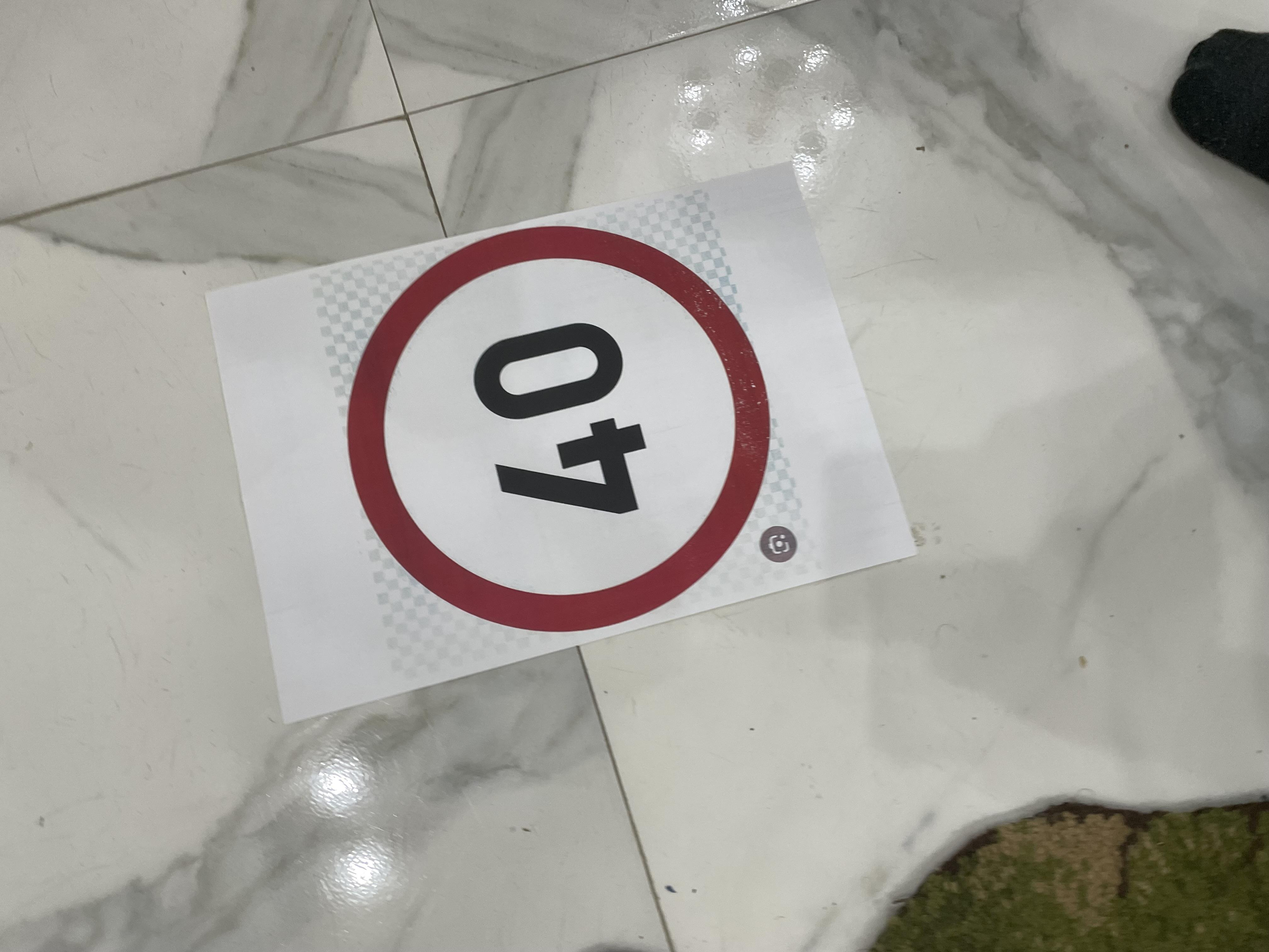40-Speed: (412, 251, 976, 581)
